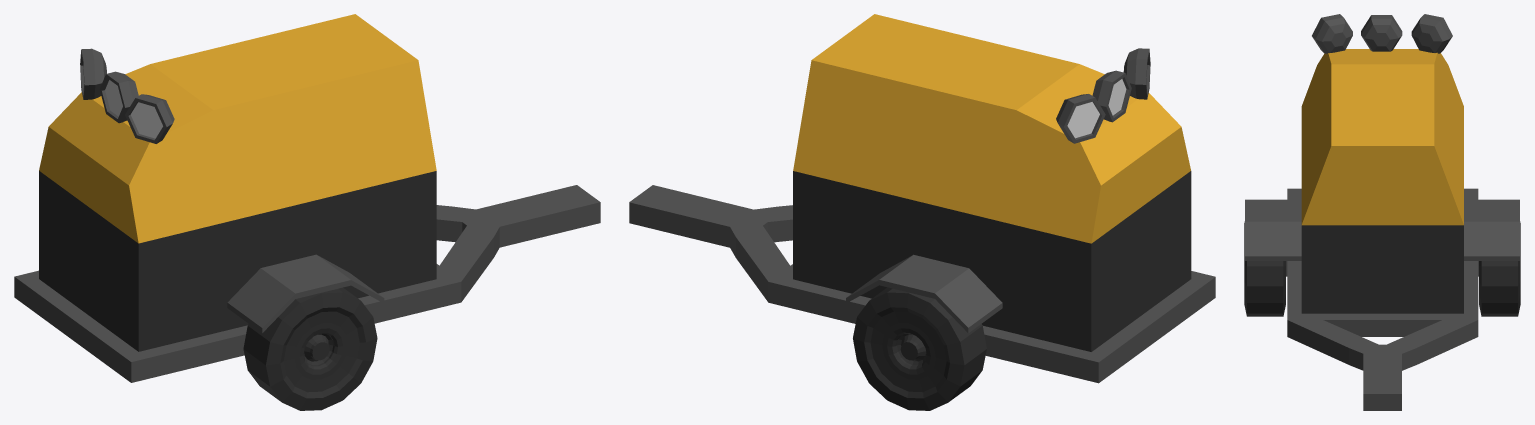
The picture shows the model from 3 angles, left to right: view 1: azimuth 30°, elevation 25°; view 2: azimuth 150°, elevation 25°; view 3: azimuth 270°, elevation 25°; orthographic projection. The views are drawn at different scales.
Parts seen in each view (by area): view 1: D-7, Cylinder.096, Cylinder.009, Cylinder.049, Cylinder.013; view 2: D-7, Cylinder.099, Cylinder.013, Cylinder.049, Cylinder.009; view 3: D-7, Cylinder.096, Cylinder.099, Cylinder.049, Cylinder.013, Cylinder.009.
Boxes of the visible parts, x1,y1,x2,y2 form: D-7: (14, 14, 600, 382); Cylinder.096: (243, 287, 377, 410); Cylinder.009: (125, 94, 174, 143); Cylinder.049: (99, 71, 138, 123); Cylinder.013: (80, 48, 106, 99); D-7: (629, 14, 1215, 383); Cylinder.099: (853, 287, 986, 410); Cylinder.013: (1056, 94, 1105, 143); Cylinder.049: (1092, 70, 1131, 122); Cylinder.009: (1123, 48, 1150, 99); D-7: (1245, 49, 1519, 410); Cylinder.096: (1244, 221, 1285, 316); Cylinder.099: (1479, 221, 1520, 316); Cylinder.049: (1361, 15, 1402, 51); Cylinder.013: (1411, 14, 1452, 53); Cylinder.009: (1312, 14, 1352, 53).
Bounding box in the file's own units: 1225 × 685 × 696.
